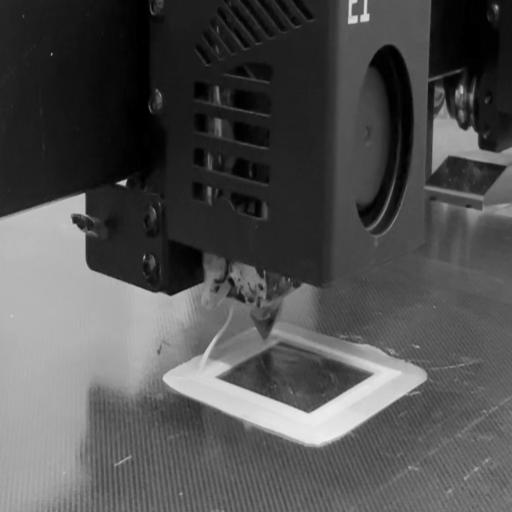spaghetti_and_stringing: (192, 302, 250, 388)
